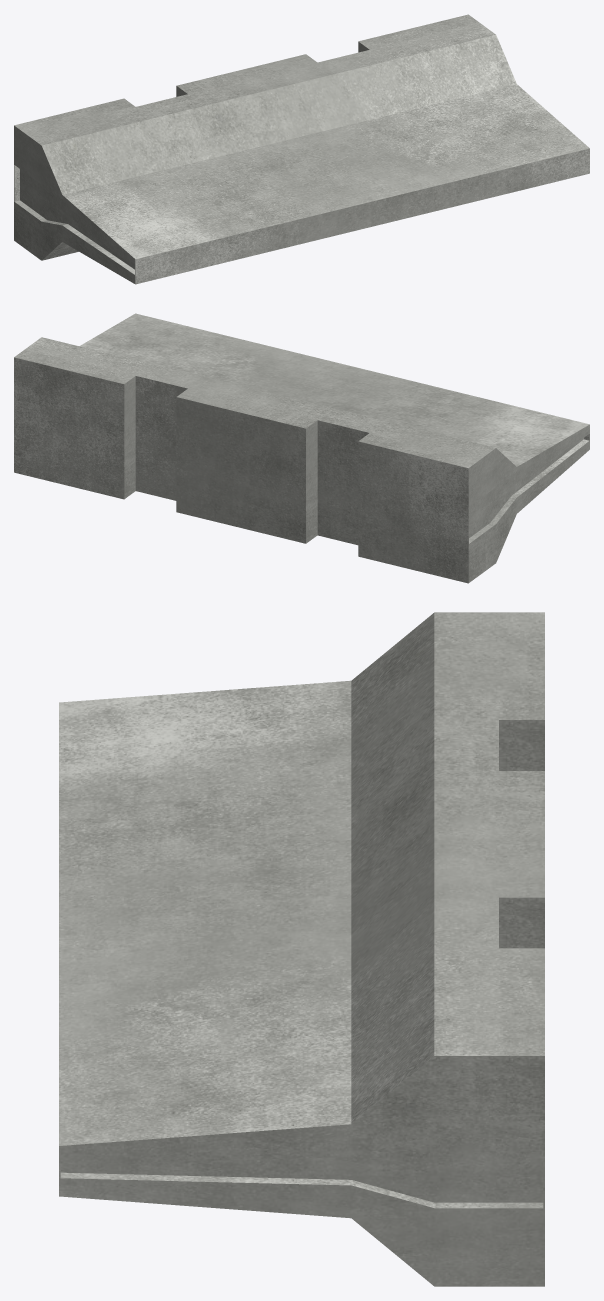
Rendered from barrier_jersey_l.obj.
The picture shows the model from 3 angles, top to bottom: view 1: azimuth 30°, elevation 25°; view 2: azimuth 150°, elevation 25°; view 3: azimuth 270°, elevation 25°; orthographic projection. The views are drawn at different scales.
Parts seen in each view (by area): view 1: Box001; view 2: Box001; view 3: Box001.
Part boxes in pixels (x1,y1,x2,y2): Box001: (14,14,589,284); Box001: (14,313,589,583); Box001: (59,612,544,1286).
Bounding box in the file's own units: 79.7 × 19.31 × 36.9.
